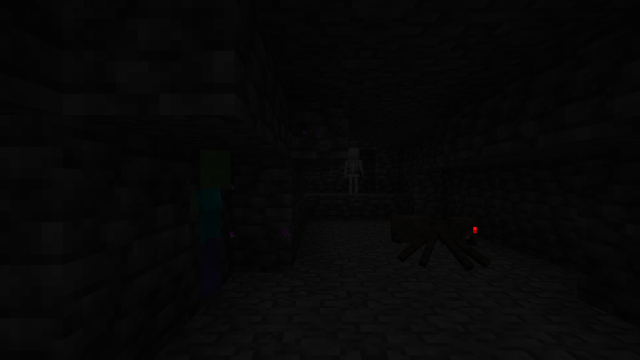araignees: (394, 209, 490, 265)
squelettes: (346, 148, 361, 193)
zombies: (198, 153, 238, 309)
